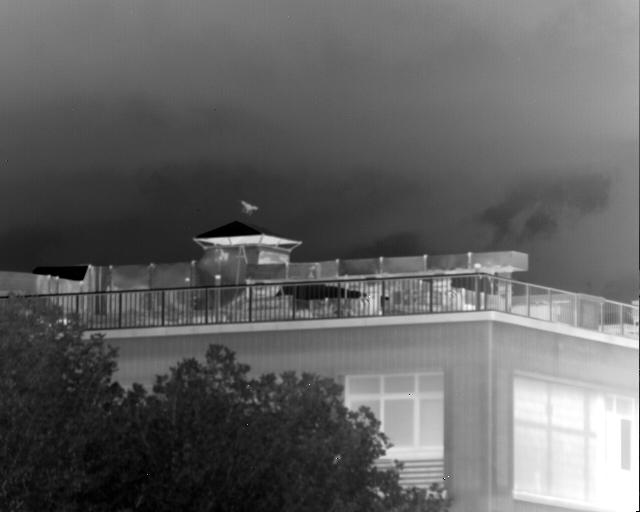plane: (241, 200, 259, 214)
